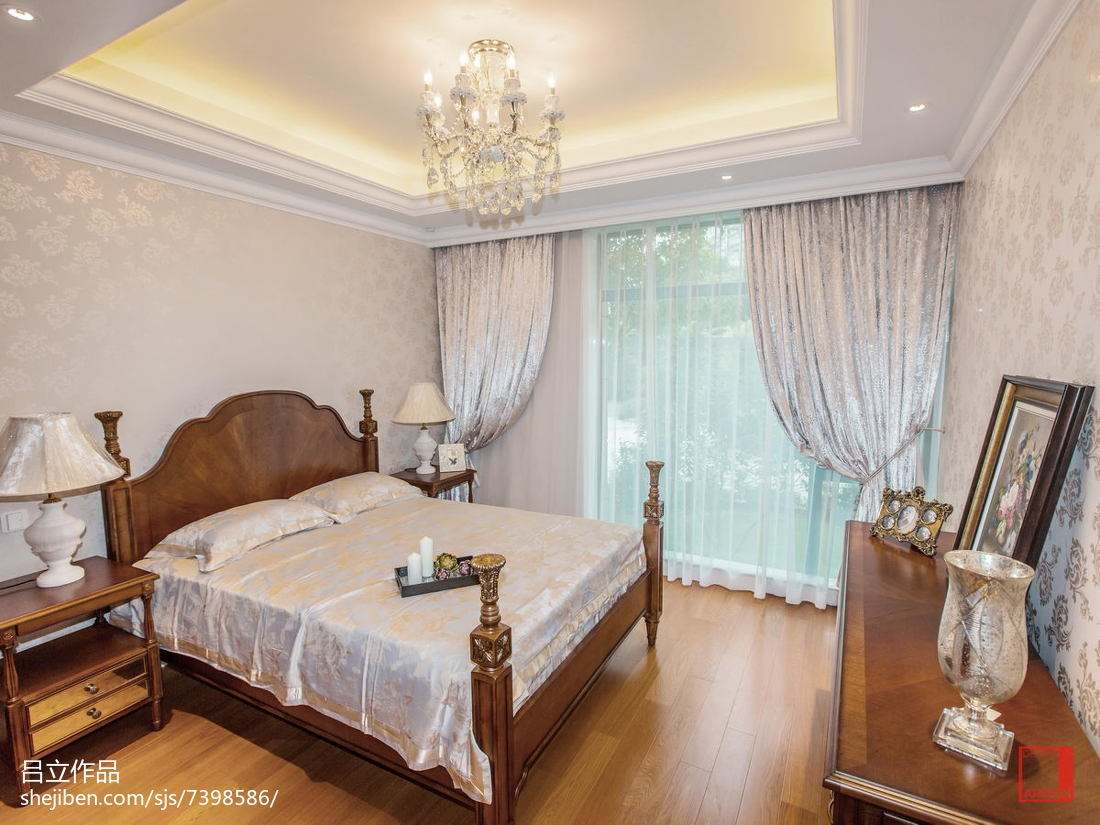床: (140, 477, 643, 776)
枕头: (178, 471, 432, 555)
灯: (416, 27, 576, 235), (0, 406, 126, 598), (387, 384, 455, 478), (715, 165, 745, 188), (914, 99, 943, 121)
